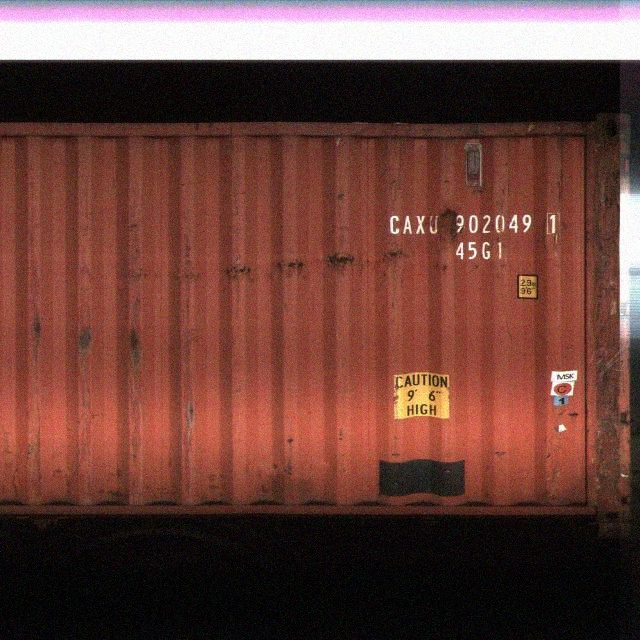Rusty: (593, 132, 627, 496), (224, 249, 412, 280), (123, 328, 146, 383), (438, 205, 465, 246), (31, 317, 48, 369), (77, 325, 95, 372)
